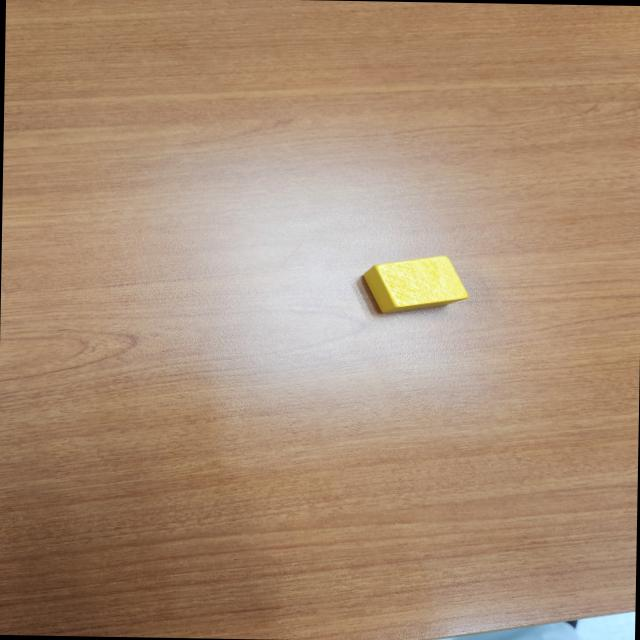yellow: (358, 255, 469, 316)
